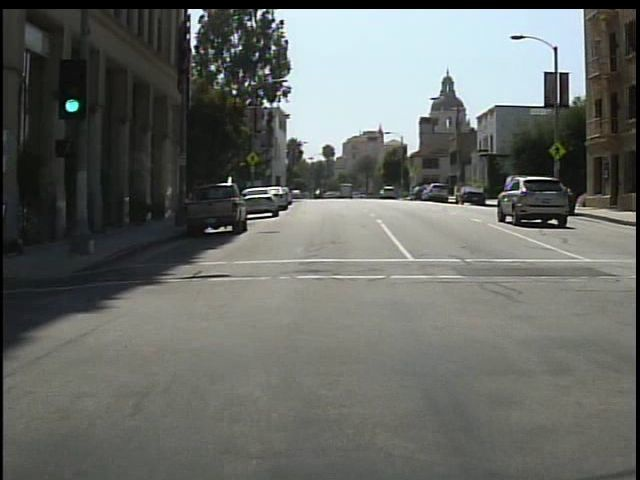person: (3, 162, 13, 272)
